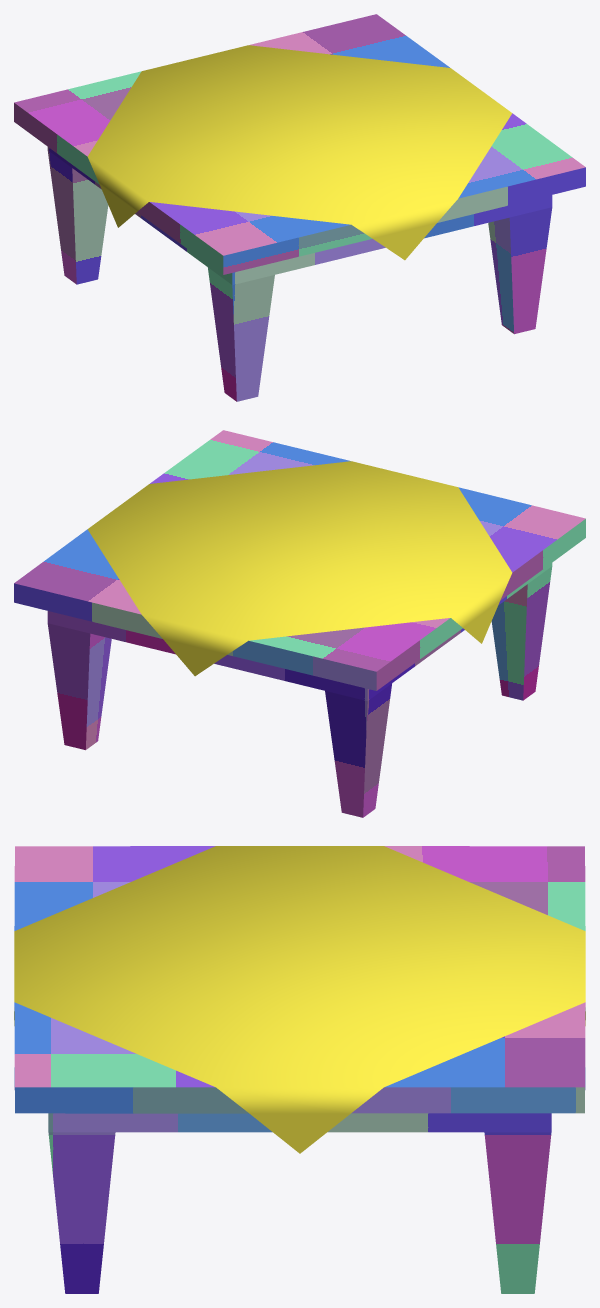
File: rmk_blu_tableL_jwl.dae
The picture shows the model from 3 angles, top to bottom: view 1: azimuth 30°, elevation 25°; view 2: azimuth 150°, elevation 25°; view 3: azimuth 270°, elevation 25°; orthographic projection. The views are drawn at different scales.
Visible parts, largest first — view 1: rmk_blu_tableL_jwl; view 2: rmk_blu_tableL_jwl; view 3: rmk_blu_tableL_jwl.
Boxes of the visible parts, x1,y1,x2,y2 form: rmk_blu_tableL_jwl: (14, 14, 585, 401); rmk_blu_tableL_jwl: (14, 430, 585, 817); rmk_blu_tableL_jwl: (14, 846, 585, 1293).
Bounding box in the file's own units: 54.58 × 24 × 54.58.
Materials: 2 (2 with a texture image).
